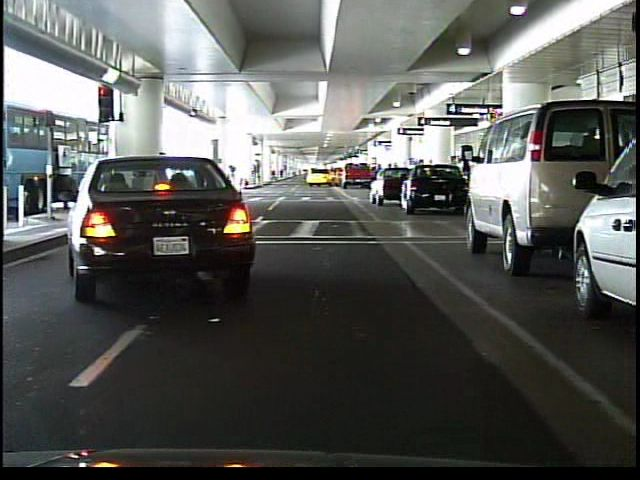car: (70, 155, 250, 314), (459, 101, 608, 279), (575, 150, 640, 328), (401, 159, 471, 221), (369, 164, 404, 204)
striscie pedonali: (253, 217, 462, 238)
